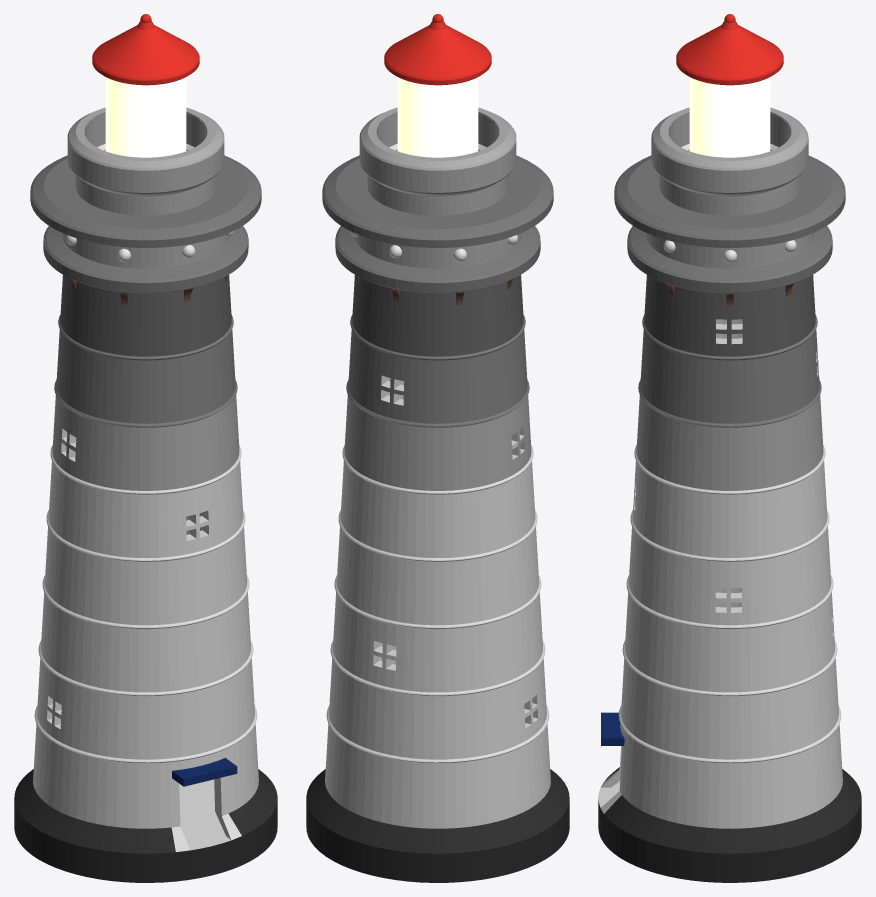
Rendered from lighthouse.gltf.
3 views of the same model, side by side, from view 1: azimuth 30°, elevation 25°; view 2: azimuth 150°, elevation 25°; view 3: azimuth 270°, elevation 25° (orthographic).
Visible parts, largest first — view 1: tower_body, Cube.008; view 2: tower_body; view 3: tower_body, Cube.008.
Boxes of the visible parts, x1=… form: tower_body: x1=14, y1=14, x2=277, y2=882; Cube.008: x1=172, y1=757, x2=237, y2=786; tower_body: x1=306, y1=14, x2=569, y2=882; tower_body: x1=598, y1=14, x2=861, y2=882; Cube.008: x1=601, y1=712, x2=624, y2=745.
Size of the model in its own units: 17.04 by 58.04 by 17.04.
